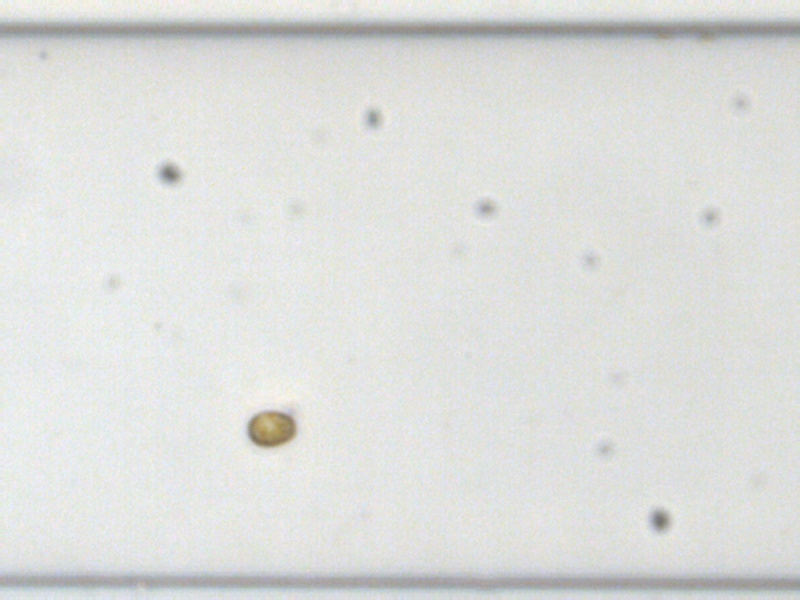Effrenium: (243, 408, 298, 449)
